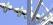gap: (3, 1, 23, 18)
